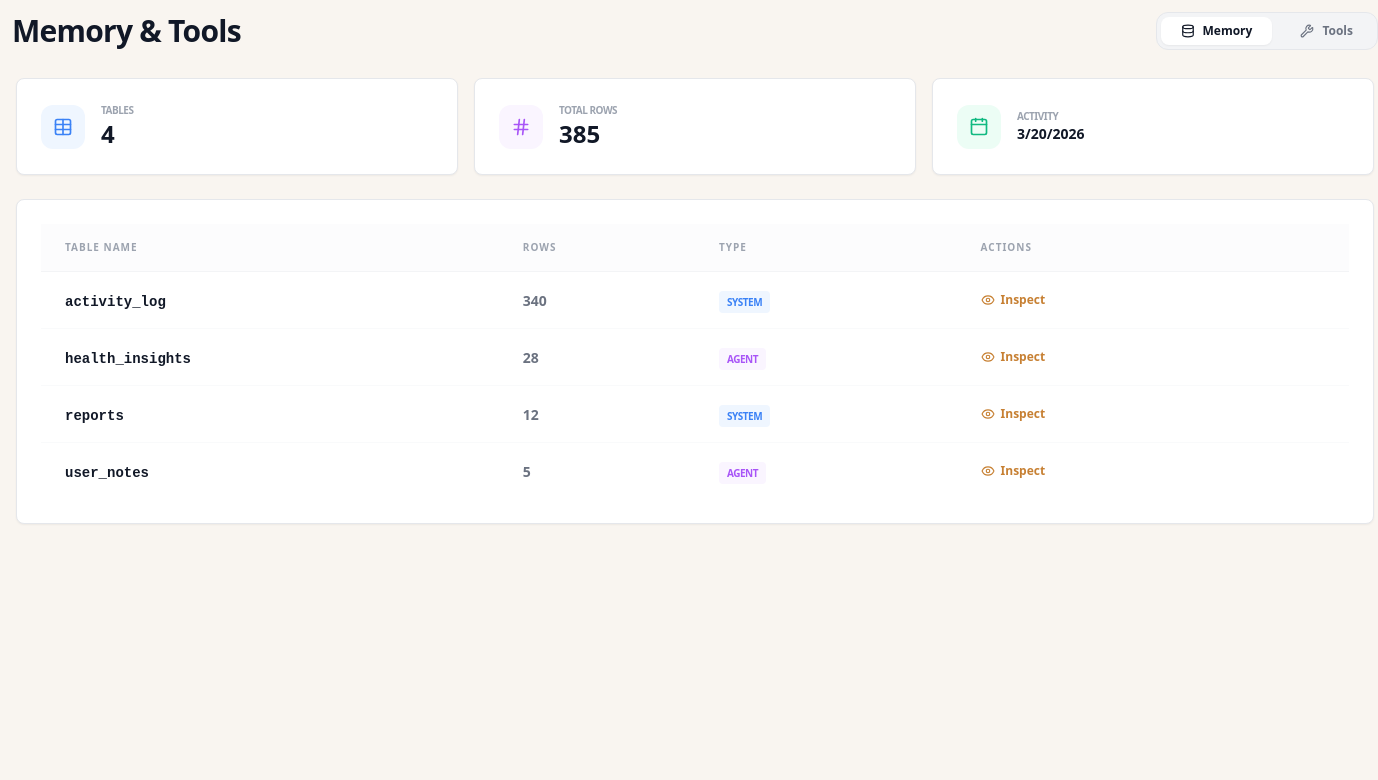
Test: KnowledgeBase (MemoryAndTools) › switches to Tools tab and shows tool list
The image size is (1378, 780).
Check: the text "reports" is shown, box [65,408,124,424]
Click the button "Tools" at (1327, 31), box [1280,17,1373,45]
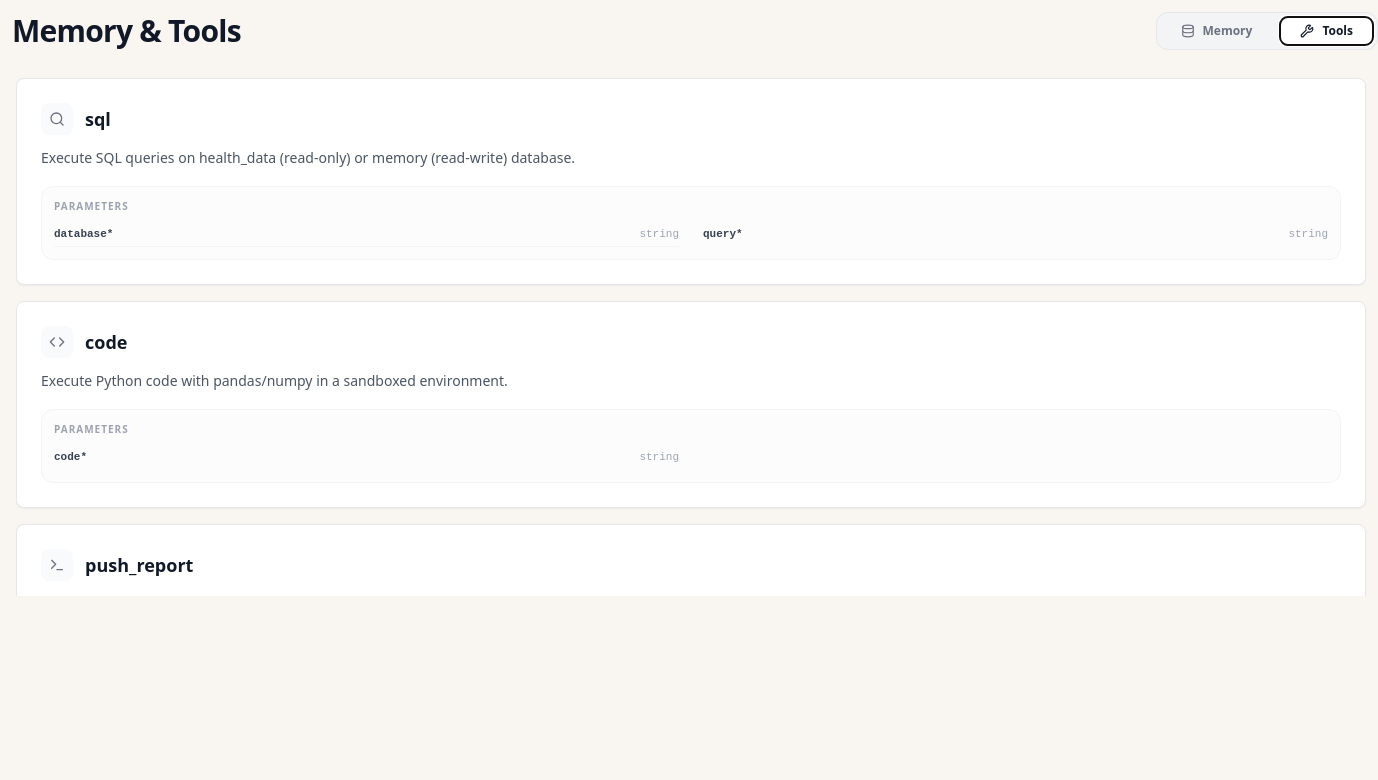
Check: the heading "sql" is shown, box [85,105,111,133]
Check: the heading "code" is shown, box [85,328,127,356]
Check: the heading "push_report" is shown, box [85,550,193,578]
